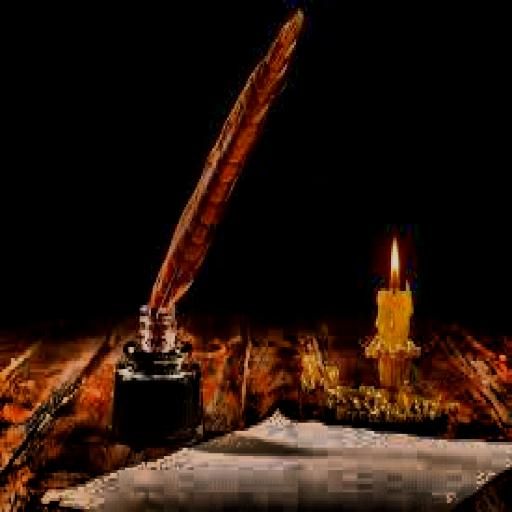fire: (382, 232, 402, 288)
